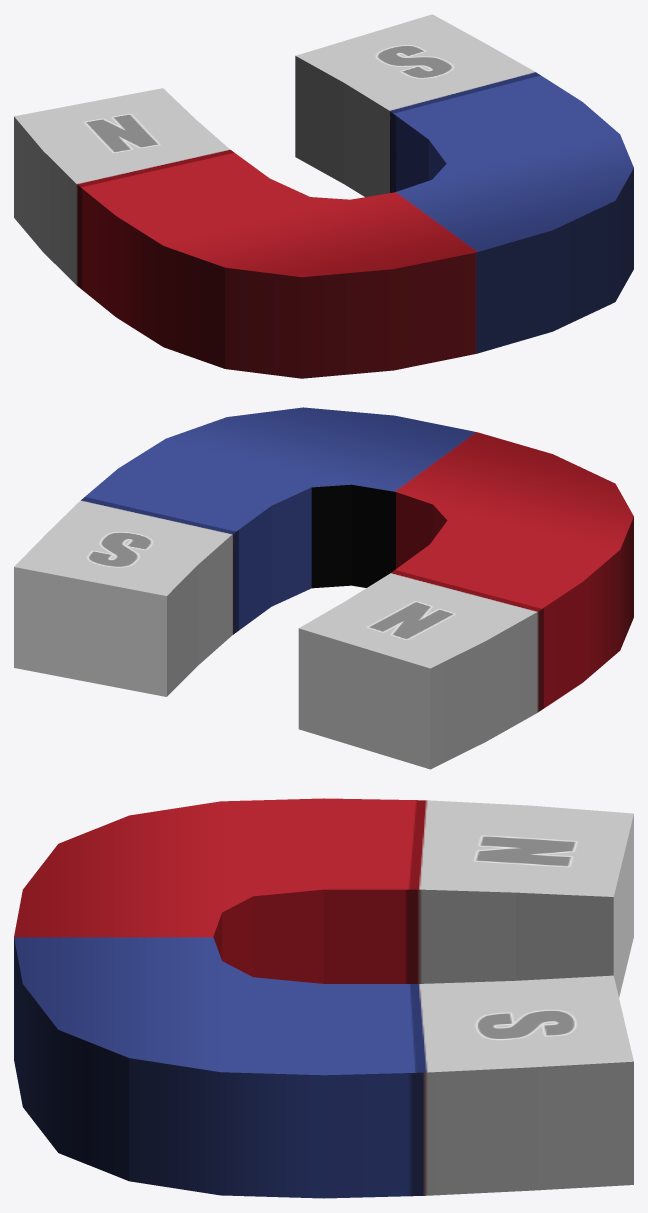
File: items_magnet.FBX
3 views of the same model, one above another, from view 1: azimuth 30°, elevation 25°; view 2: azimuth 150°, elevation 25°; view 3: azimuth 270°, elevation 25° (orthographic). The views are drawn at different scales.
Visible parts, largest first — view 1: items_magnet; view 2: items_magnet; view 3: items_magnet.
Part boxes in pixels (<box>): items_magnet: <box>14,14,633,378</box>; items_magnet: <box>14,407,633,769</box>; items_magnet: <box>14,798,633,1198</box>.
Bounding box in the file's own units: 77.21 × 16.03 × 73.1.
